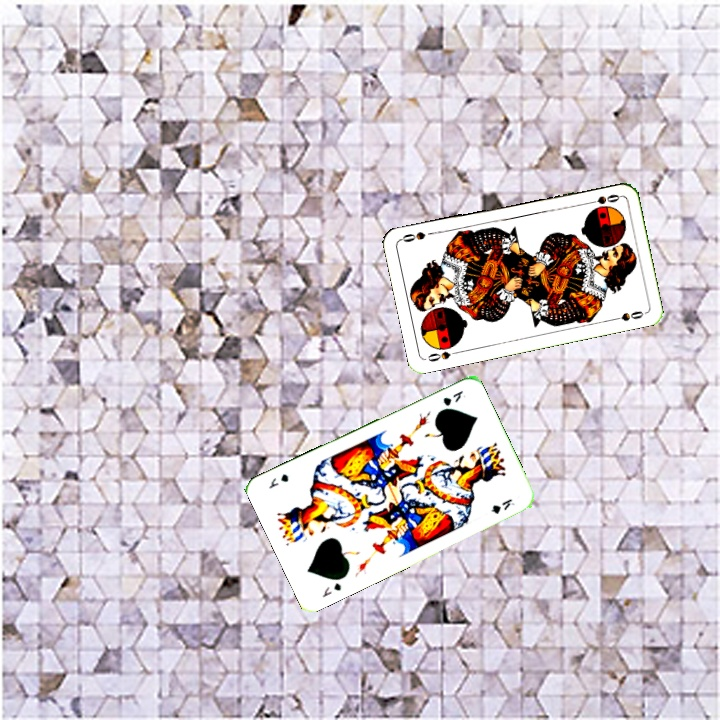GK: (439, 386, 465, 409), (318, 579, 344, 600)
SO: (582, 190, 622, 207), (422, 347, 462, 364)
